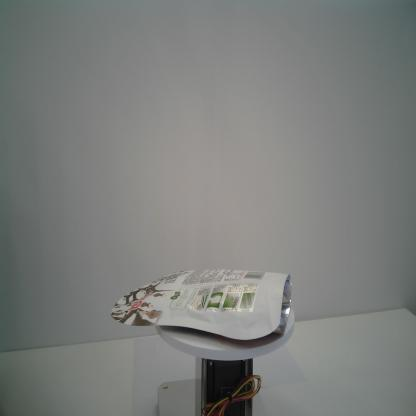Dried Fruit: (111, 268, 292, 341)
